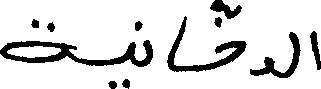X: (0, 14, 65, 67), (217, 0, 245, 71), (169, 12, 184, 76), (125, 18, 135, 88), (252, 52, 273, 80), (289, 27, 299, 81), (311, 26, 320, 74), (143, 35, 151, 71)
